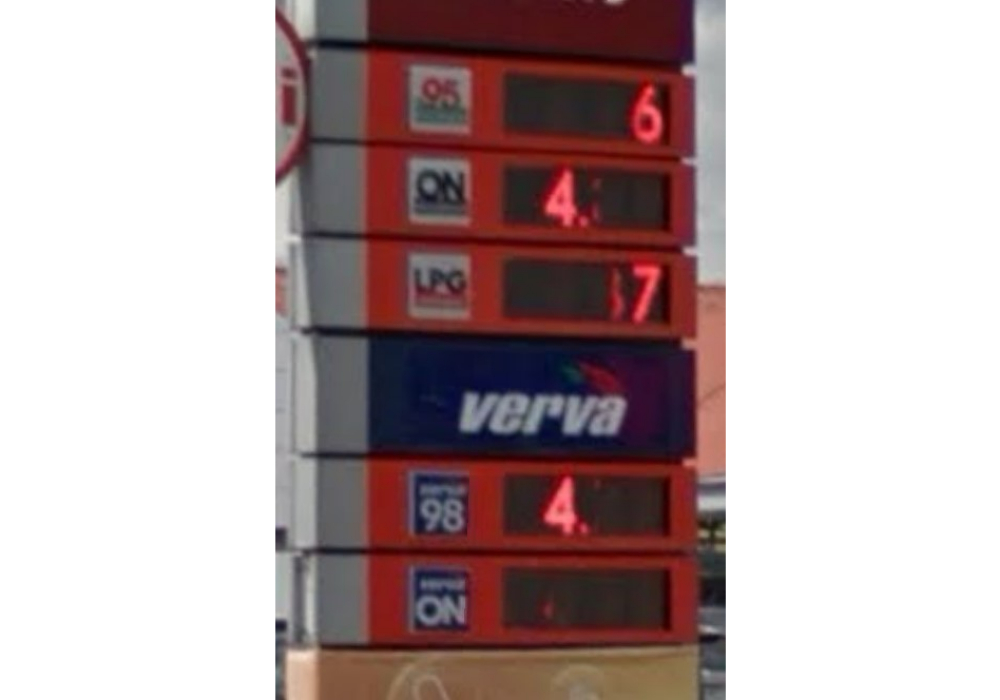LPG: (406, 248, 472, 323)
ON: (406, 560, 470, 637), (406, 155, 472, 226)
PB95: (404, 61, 473, 137)
PB98: (404, 467, 470, 542)
